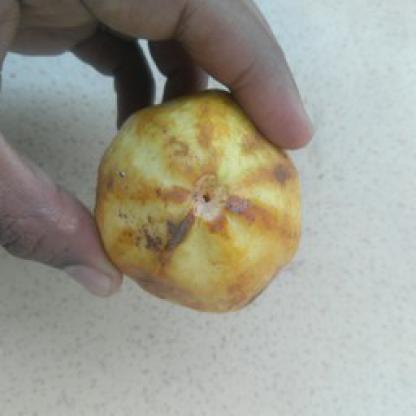guava_rotten: (86, 88, 306, 314)
